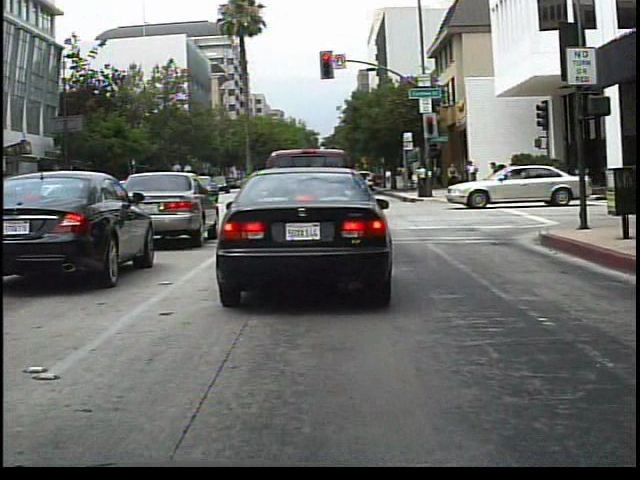person: (489, 155, 516, 204), (443, 158, 461, 194), (461, 159, 478, 196)
